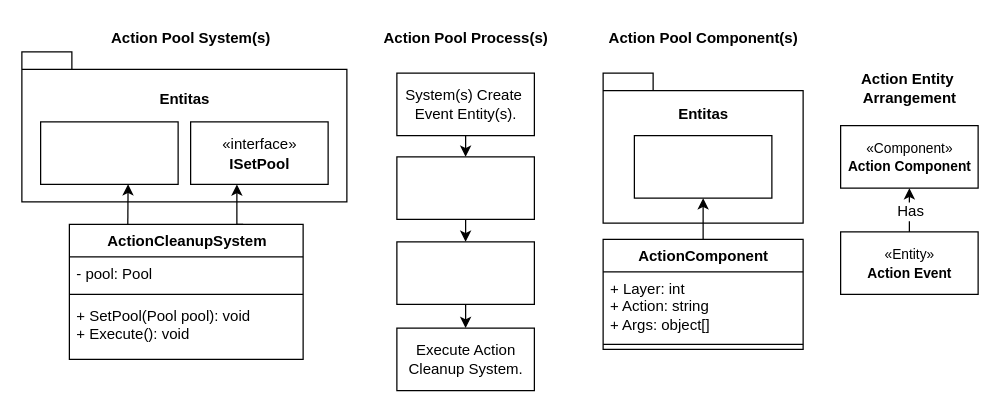
The diagram is 1000 pixels wide and 413 high, and some of its shapes have lost their labels. The centre of each missing label's shape, as x and y in pixels:
"Execute All System(s)." belongs at pixel 465 272.
"System(s) Catch Event Entity(s) On Creation." belongs at pixel 465 187.
"«interface» IComponent" belongs at pixel 702 166.
"«interface» IExecuteSystem" belongs at pixel 108 152.
